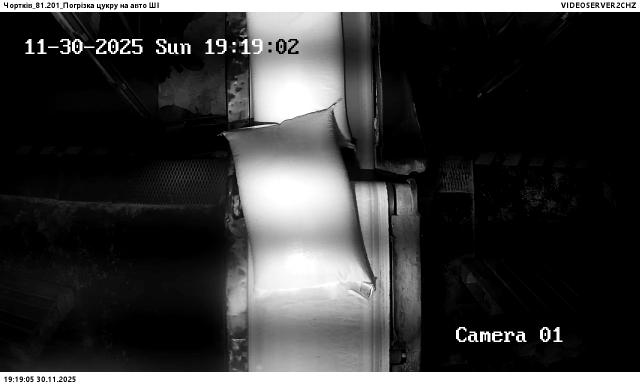bag: (221, 106, 378, 301), (246, 13, 356, 149)
